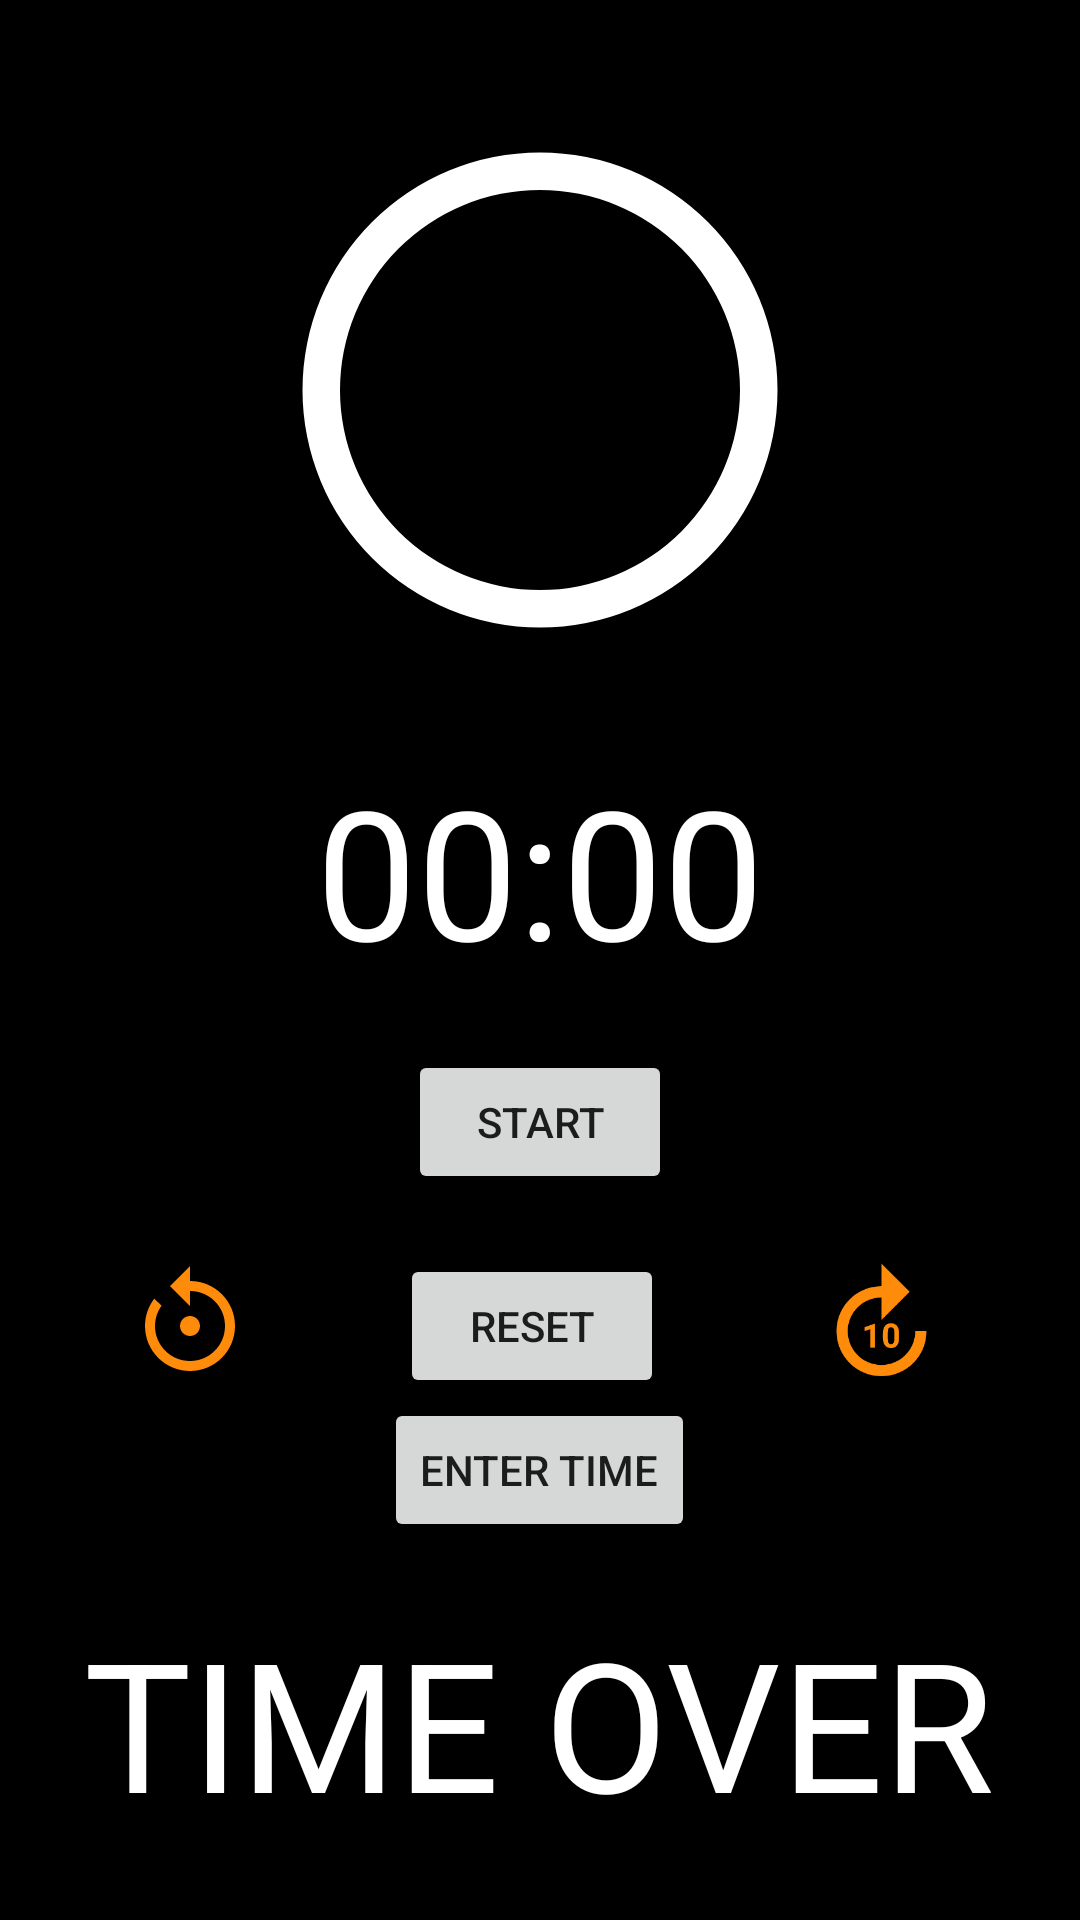

Icon click points for this 1080px x 1920px phone screenshot, format point (x, y):
forward: point (881, 1320)
